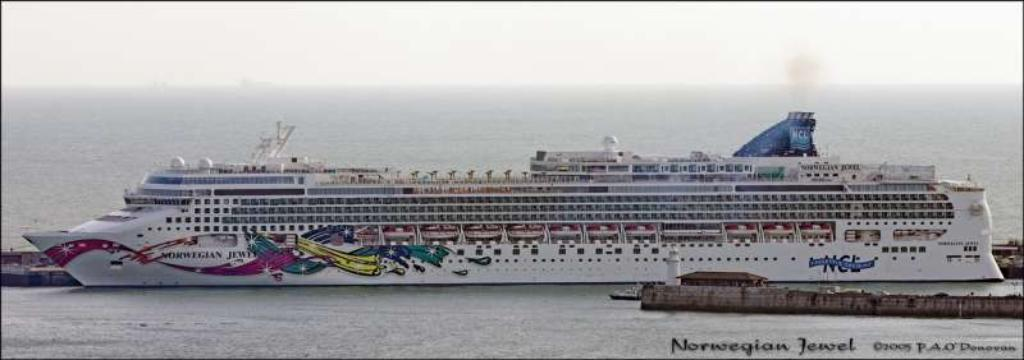PassengerShip: (16, 107, 1006, 289)
